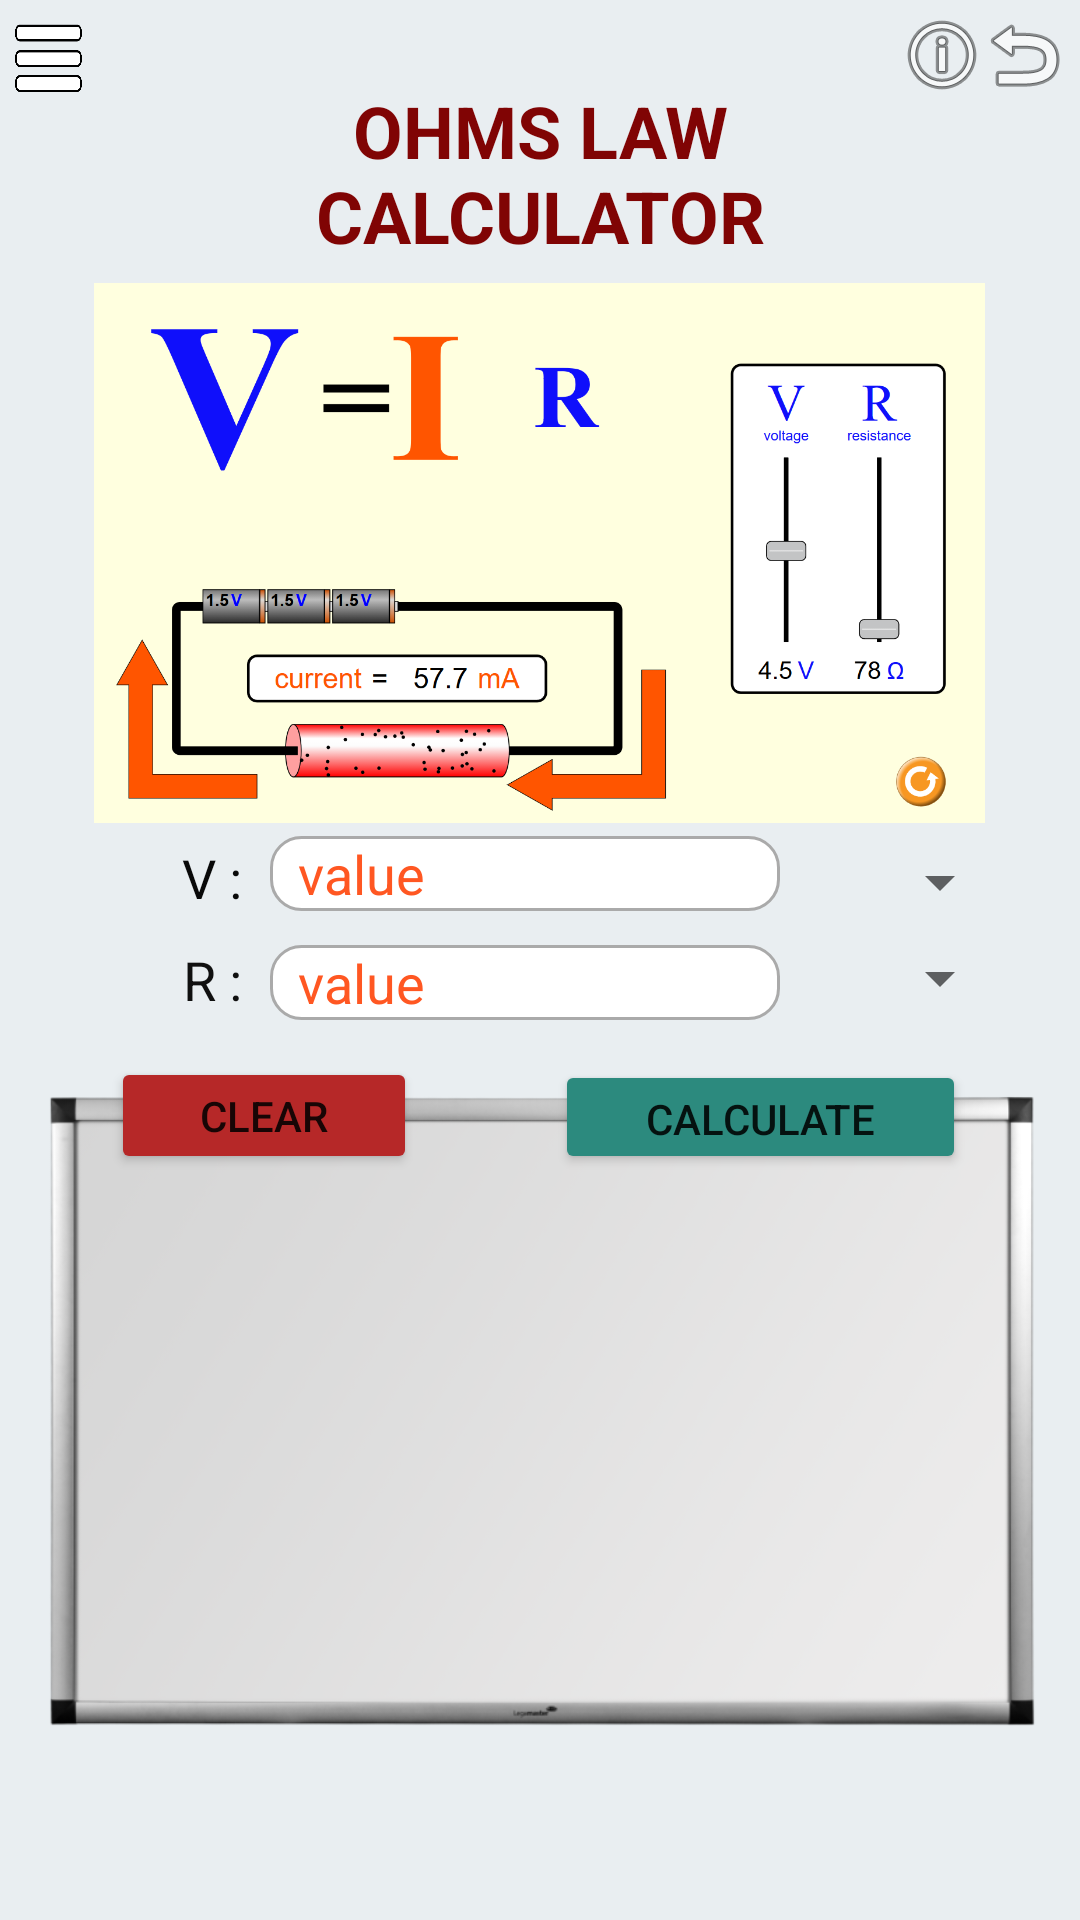

Screen size 1080x1920. Icon name, then its box in pixels as (x1, y1, x2, y2):
info details: (907, 20, 977, 90)
menu: (15, 24, 82, 92)
revert: (991, 24, 1060, 87)
